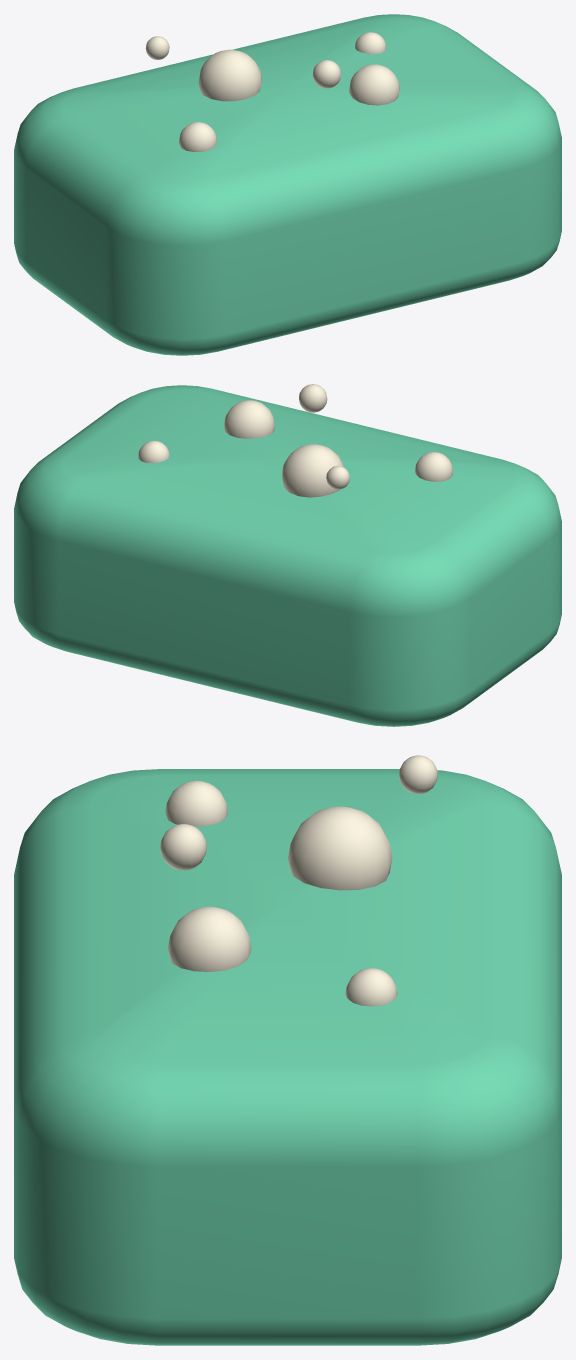
Rendered from SOAP.glb.
The picture shows the model from 3 angles, top to bottom: view 1: azimuth 30°, elevation 25°; view 2: azimuth 150°, elevation 25°; view 3: azimuth 270°, elevation 25°; orthographic projection. The views are drawn at different scales.
Parts seen in each view (by area): view 1: SOAP; view 2: SOAP; view 3: SOAP.
Boxes of the visible parts, x1=… form: SOAP: x1=14, y1=14, x2=561, y2=355; SOAP: x1=14, y1=384, x2=561, y2=726; SOAP: x1=14, y1=755, x2=561, y2=1345.
Size of the model in its own units: 0.32 by 0.154 by 0.21.
